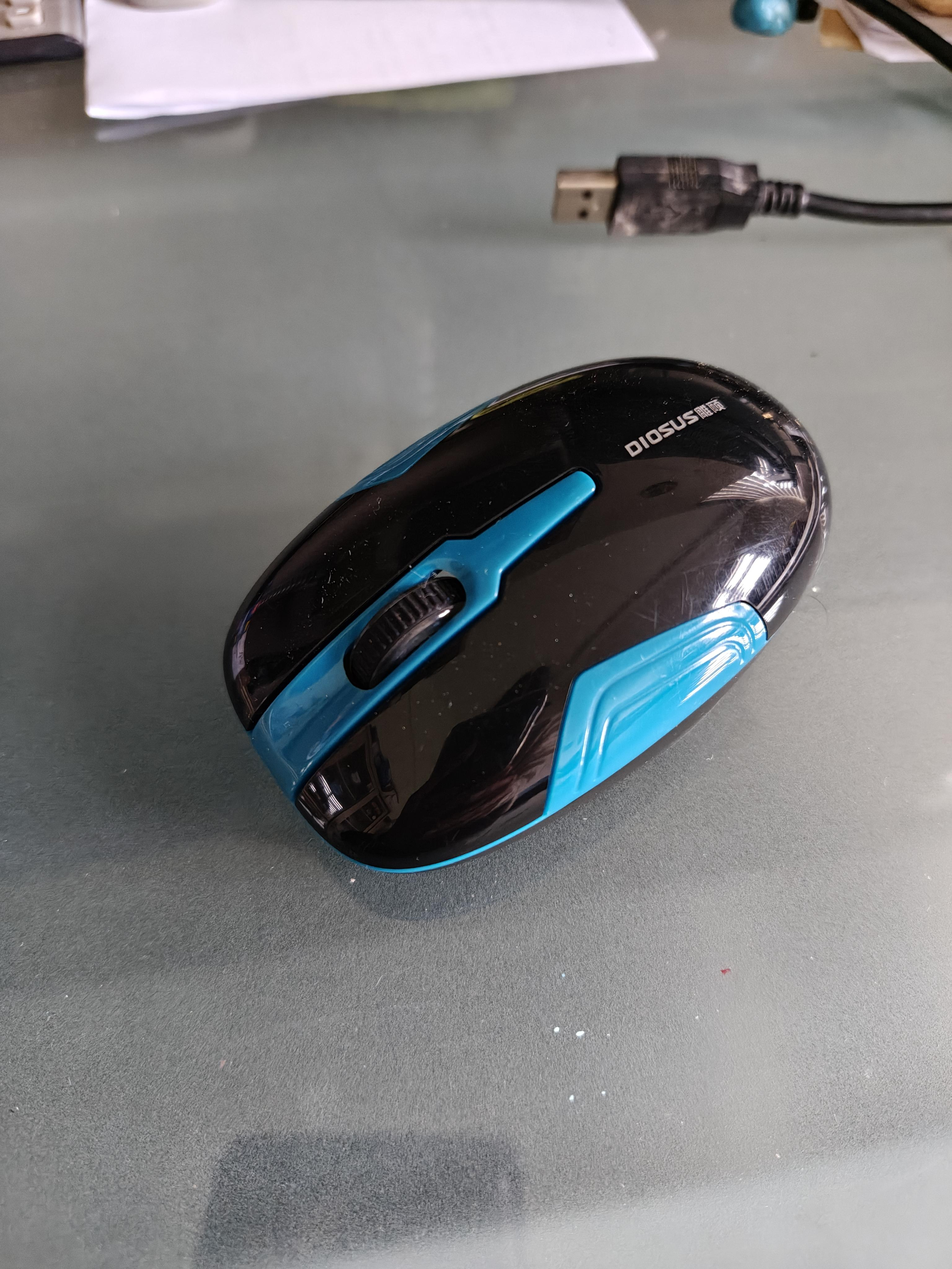mouse: (221, 356, 833, 876)
